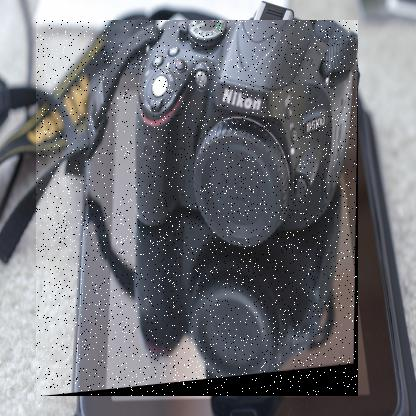Camera: (37, 21, 360, 398)
